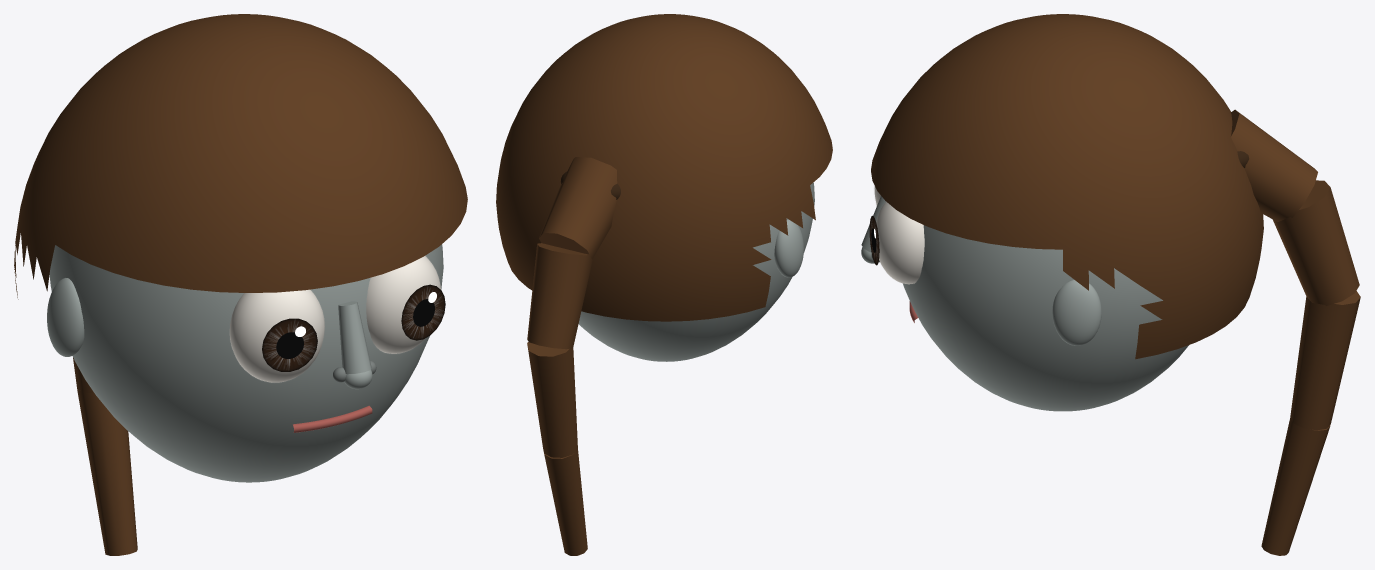
Rendered from autres-09-queue-de-cheval.glb.
3 renders of one model, left to right at view 1: azimuth 30°, elevation 25°; view 2: azimuth 150°, elevation 25°; view 3: azimuth 270°, elevation 25°, orthographic. The views are drawn at different scales.
Size of what is drawn, in the model's own units: 0.3304 by 0.4884 by 0.4238.
Materials: 11 (1 with a texture image).
